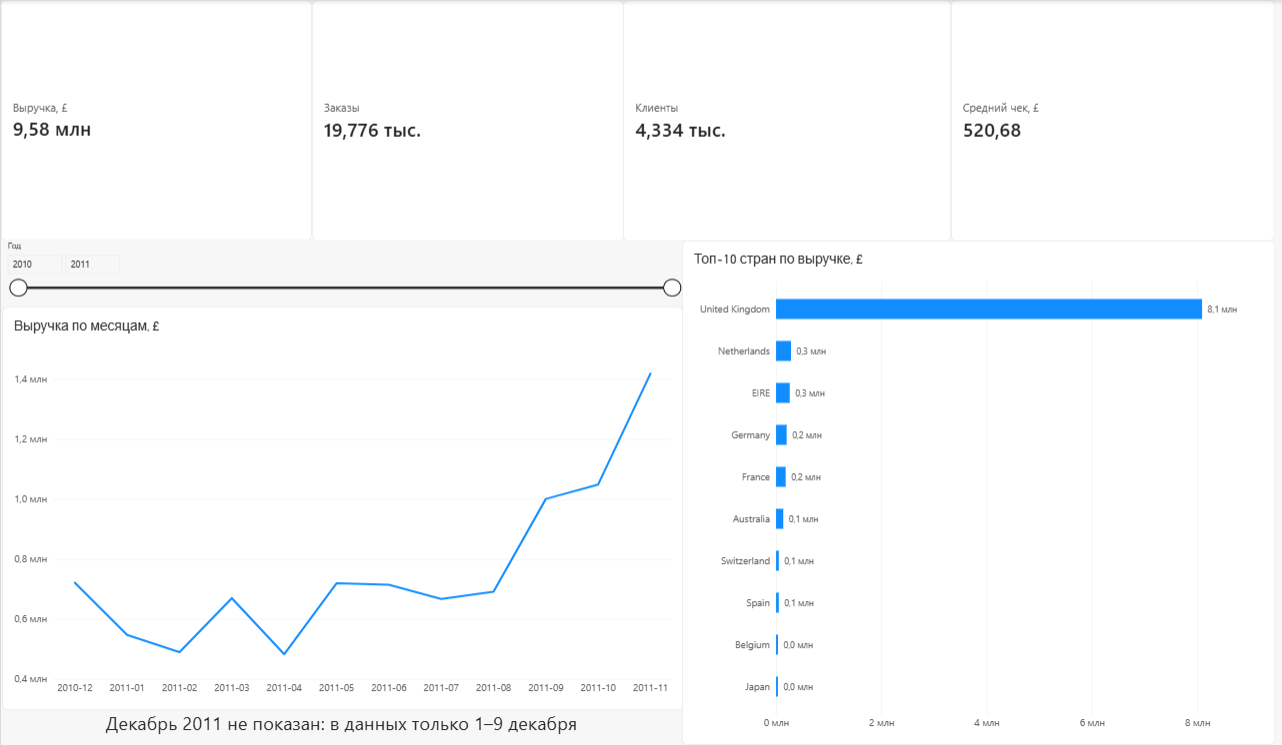

The page's visual inventory and layout, read from the dashboard file:
{"tool":"powerbi","page":{"name":"Обзор","canvas":[1920,1080],"ordinal":0},"visuals":[{"type":"cardVisual","title":"Выручка, £","fields":{"Data":["DateTable.Total Revenue"]},"box":[0,0,450.8,349.9],"z":0},{"type":"cardVisual","fields":{"Data":["DateTable.Orders"]},"box":[450.8,0,451,350],"z":1},{"type":"cardVisual","fields":{"Data":["DateTable.Customers"]},"box":[902,0,474,350],"z":2},{"type":"cardVisual","fields":{"Data":["DateTable.Avg Order Value"]},"box":[1376,0,468,350],"z":3},{"type":"lineChart","title":"Выручка по месяцам, £","fields":{"Category":["DateTable.Месяц"],"Y":["DateTable.Total Revenue"]},"box":[2,446,986,584],"z":4},{"type":"clusteredBarChart","title":"Топ-10 стран по выручке, £","fields":{"Category":["transactions.Country"],"Y":["DateTable.Total Revenue"]},"box":[986,350,858,730],"z":5},{"type":"slicer","fields":{"Values":["DateTable.Год"]},"box":[2,350,986,96],"z":6},{"type":"textbox","box":[0,1030,986,50],"z":7}]}

Visuals, with their boxes on the page's 1920x1080 design canvas (x1, y1, x2, y2). These are canvas units, not pixel positions in the 1282x745 screenshot, which may show the page scaled, cropped or inside an application window:
"Выручка, £" cardVisual: x1=0, y1=0, x2=451, y2=350
cardVisual - DateTable.Orders: x1=451, y1=0, x2=902, y2=350
cardVisual - DateTable.Customers: x1=902, y1=0, x2=1376, y2=350
cardVisual - DateTable.Avg Order Value: x1=1376, y1=0, x2=1844, y2=350
"Выручка по месяцам, £" lineChart: x1=2, y1=446, x2=988, y2=1030
"Топ-10 стран по выручке, £" clusteredBarChart: x1=986, y1=350, x2=1844, y2=1080
slicer - DateTable.Год: x1=2, y1=350, x2=988, y2=446
textbox: x1=0, y1=1030, x2=986, y2=1080
